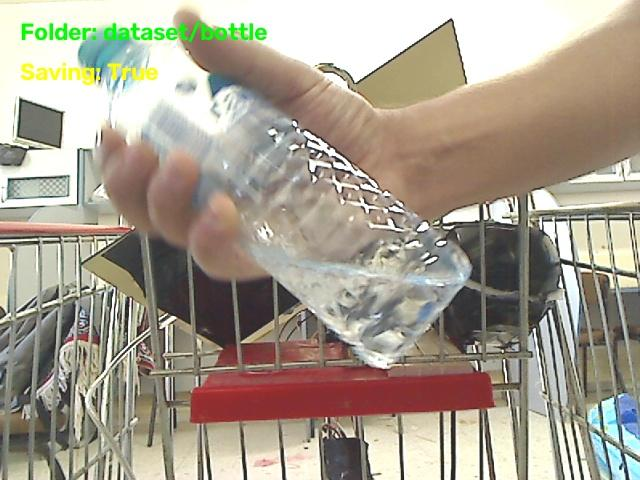Bottle: (79, 34, 471, 367)
